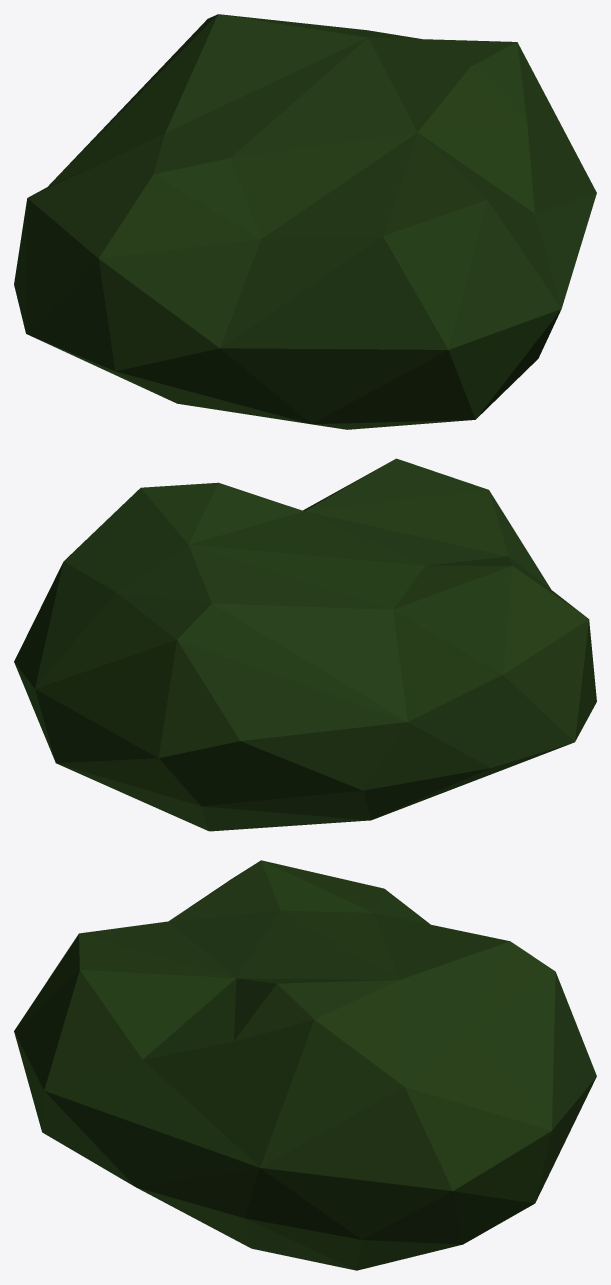
The model's file is SM_bush_06.fbx.
The picture shows the model from 3 angles, top to bottom: view 1: azimuth 30°, elevation 25°; view 2: azimuth 150°, elevation 25°; view 3: azimuth 270°, elevation 25°; orthographic projection. The views are drawn at different scales.
Visible parts, largest first — view 1: Object126; view 2: Object126; view 3: Object126.
Part boxes in pixels (x1=…): Object126: x1=14, y1=14, x2=596, y2=429; Object126: x1=14, y1=458, x2=596, y2=831; Object126: x1=14, y1=860, x2=596, y2=1270.
Size of the model in its own units: 130 by 71.19 by 130.
